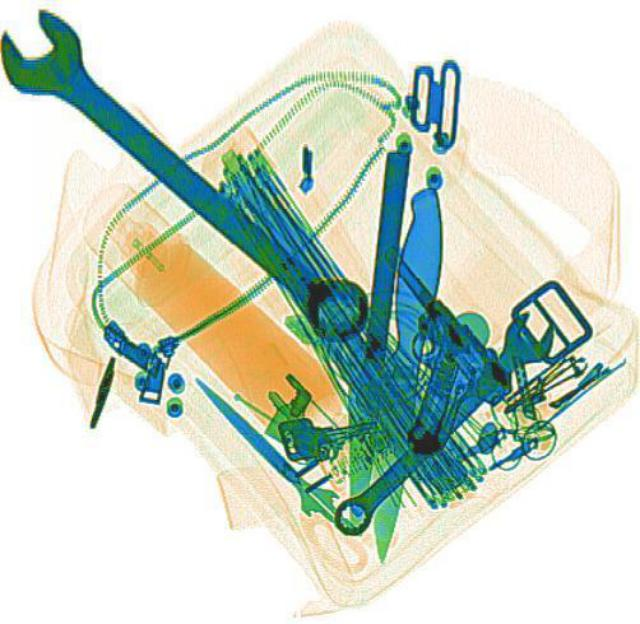Gun: (304, 242, 522, 456)
Knife: (349, 184, 446, 561), (180, 363, 350, 530), (334, 146, 408, 518)
Wrench: (0, 14, 383, 351), (314, 298, 568, 543)
